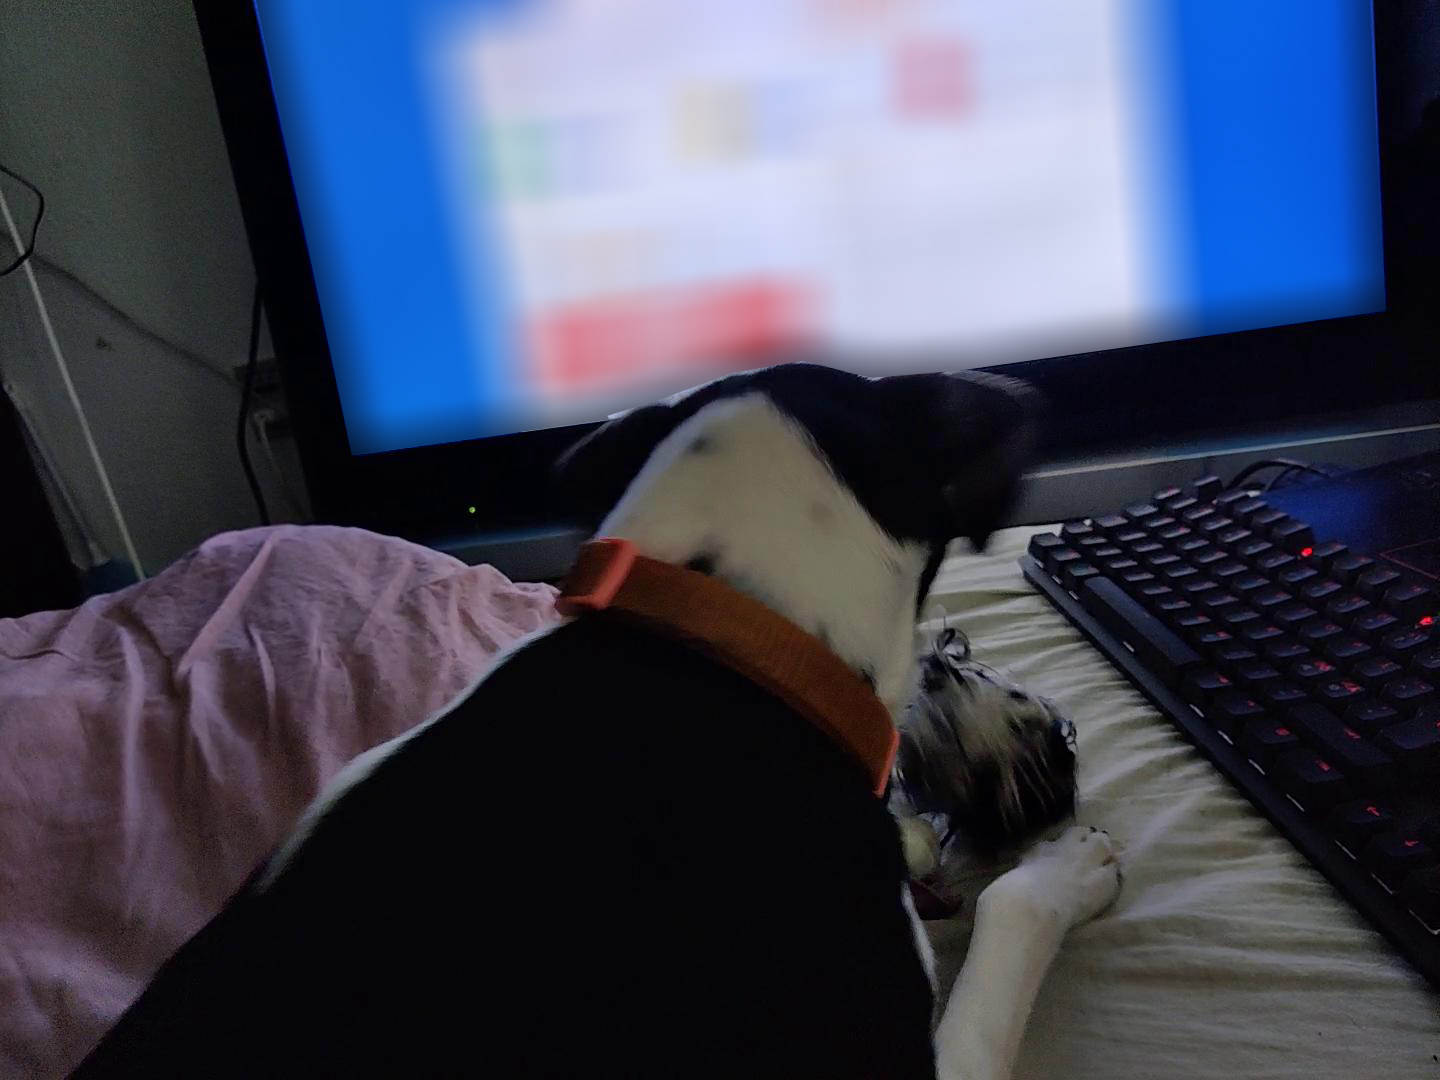Dog: (49, 347, 1125, 1079)
